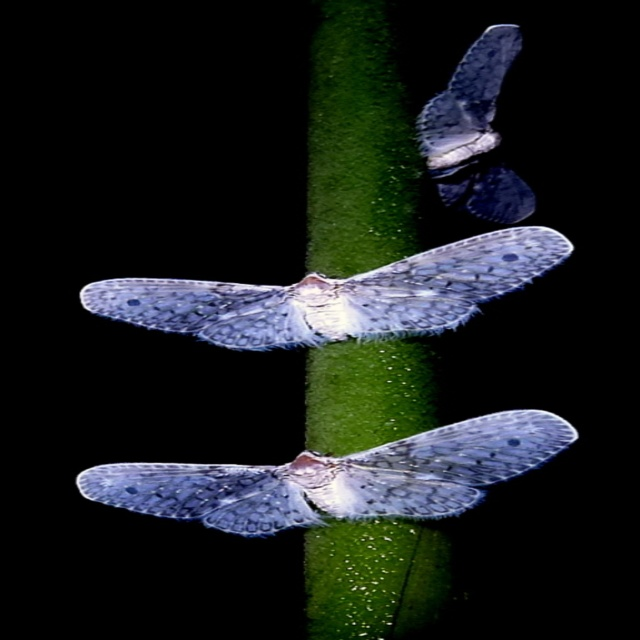Butterfly: (46, 407, 590, 543), (76, 221, 579, 360), (399, 21, 544, 222)
